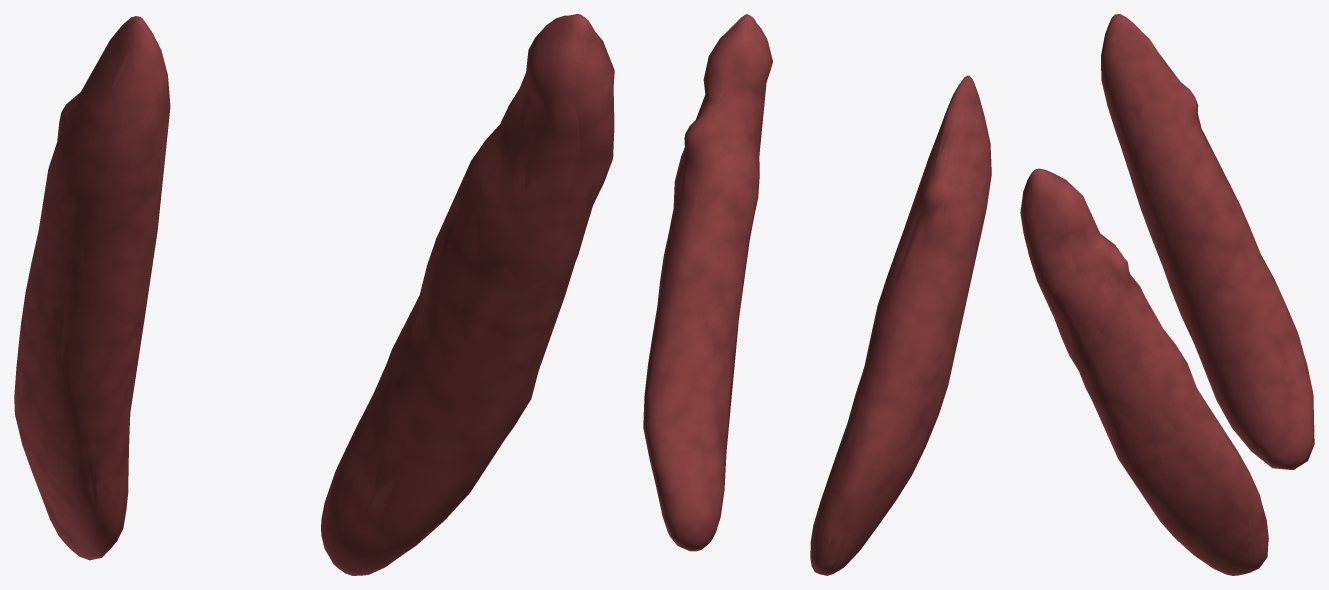
The model's file is Thyroid Gland.fbx.
3 views of the same model, side by side, from view 1: azimuth 30°, elevation 25°; view 2: azimuth 150°, elevation 25°; view 3: azimuth 270°, elevation 25° (orthographic). The views are drawn at different scales.
Visible parts, largest first — view 1: Thyroid Gland, Thyroid Gland low; view 2: Thyroid Gland, Thyroid Gland low; view 3: Thyroid Gland, Thyroid Gland low.
Boxes of the visible parts, left/top/right/bottom form: Thyroid Gland: left=14, top=14, right=614, bottom=575; Thyroid Gland low: left=14, top=16, right=614, bottom=565; Thyroid Gland: left=643, top=14, right=991, bottom=575; Thyroid Gland low: left=645, top=18, right=990, bottom=572; Thyroid Gland: left=1020, top=14, right=1314, bottom=575; Thyroid Gland low: left=1022, top=18, right=1314, bottom=555.
Bounding box in the file's own units: 2.01 × 2.81 × 1.62.
Materials: 1 (1 with a texture image).
